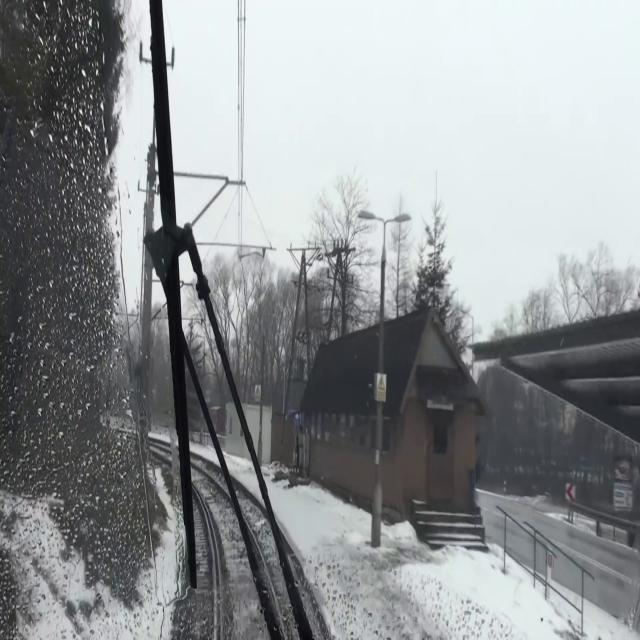rail-track: (215, 522, 259, 639), (278, 536, 325, 639), (190, 467, 200, 487)
